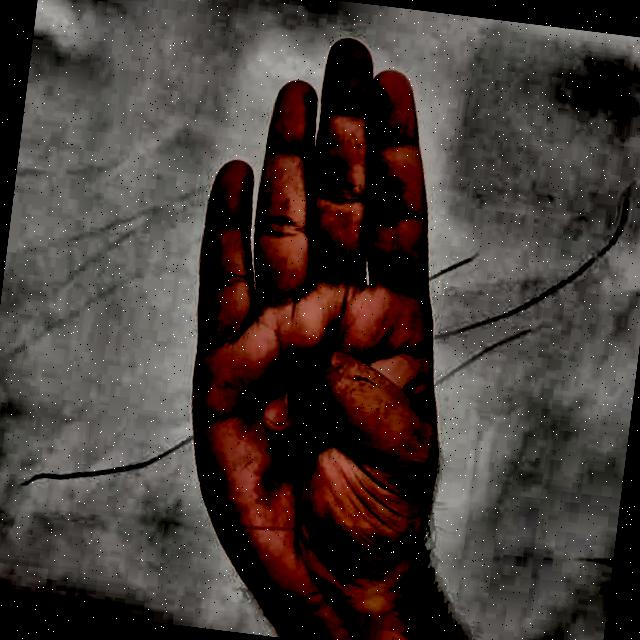Ba: (118, 7, 536, 640)
